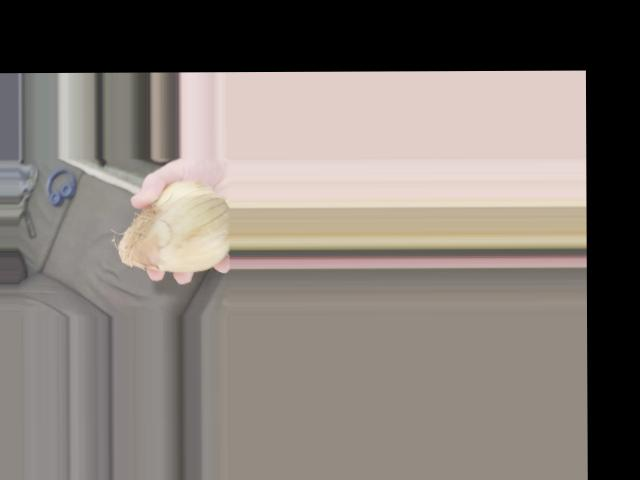onion: (115, 182, 224, 273)
